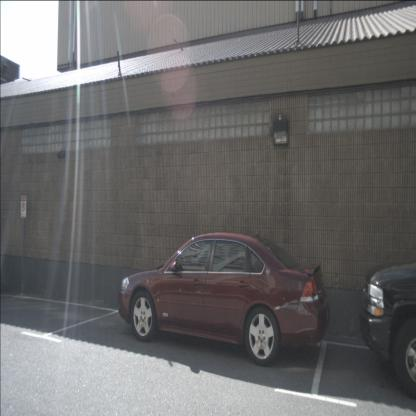vehicle-car: (119, 230, 330, 367), (362, 257, 415, 407)
